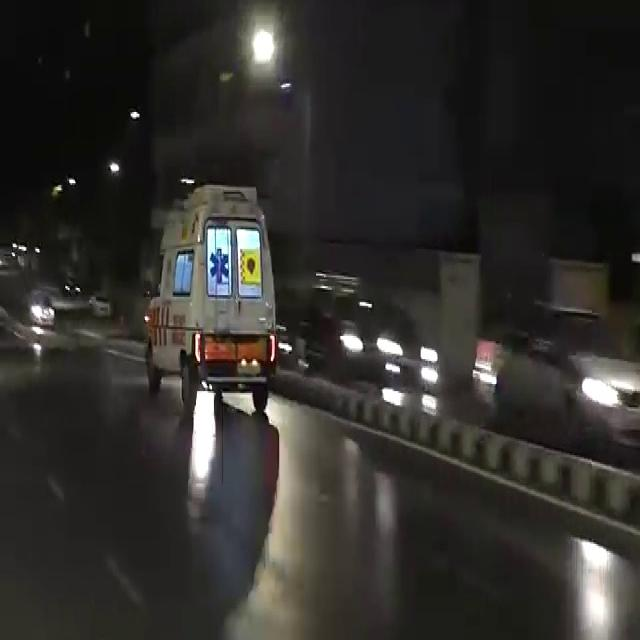ambulance: (135, 109, 295, 427)
